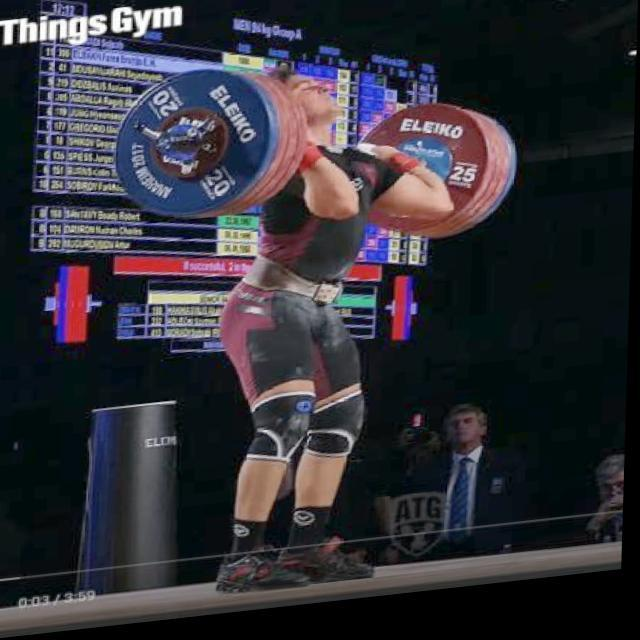barbell: (110, 64, 281, 236)
